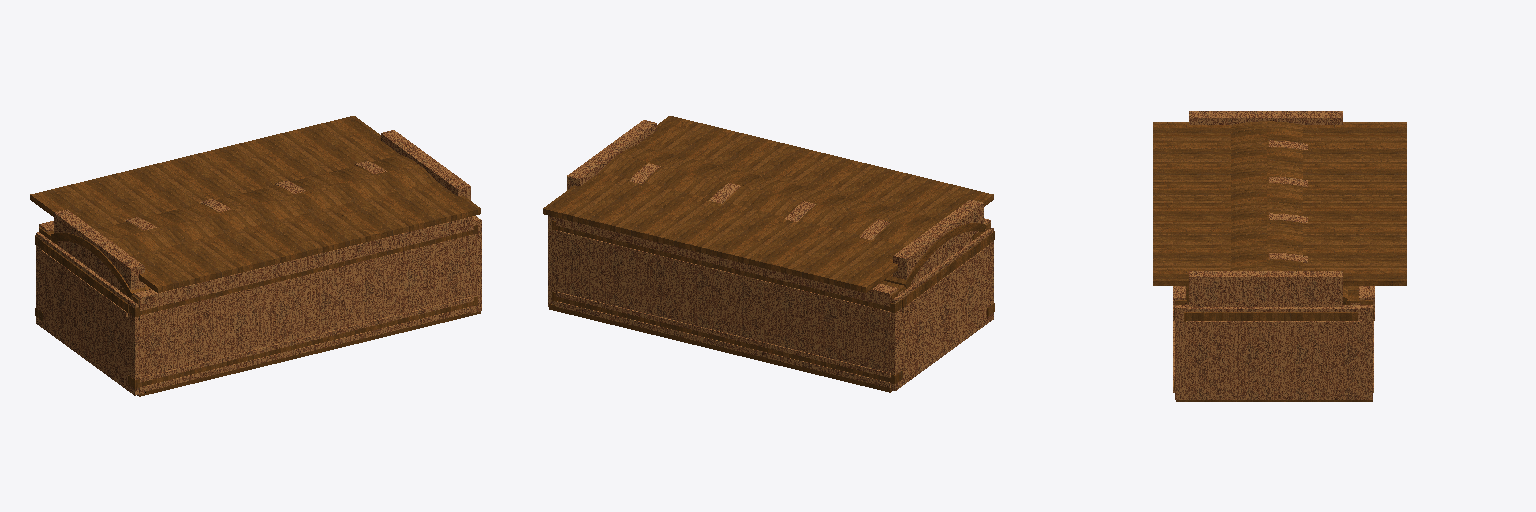
The picture shows the model from 3 angles: view 1: azimuth 30°, elevation 25°; view 2: azimuth 150°, elevation 25°; view 3: azimuth 270°, elevation 25°; orthographic projection.
Visible parts, largest first — view 1: Roof1, Wall5, Wall3, Roofdetail1, Wallstrip6, Roofdetail2, Ceilingdetail3, Wallstrip4, Wallstrip5, Wallstrip8, Wooddetail2, Wooddetail1 (+3 smaller); view 2: Roof1, Wall7, Wall3, Roofdetail2, Roofdetail1, Wallstrip2, Ceilingdetail3, Wallstrip3, Wallstrip9, Wallstrip10, Wooddetail5, Wooddetail3 (+4 smaller); view 3: Roof1, Wall1, Ceilingdetail2, Roofdetail1, Roofdetail2, Ceilingdetail3, Wooddetail6, Wallstrip1.
Boxes of the visible parts, <box> form: Roof1: <box>30,116,480,292</box>; Wall5: <box>140,216,481,376</box>; Wall3: <box>36,232,144,395</box>; Roofdetail1: <box>91,164,435,297</box>; Wallstrip6: <box>133,216,473,310</box>; Roofdetail2: <box>51,155,417,250</box>; Ceilingdetail3: <box>54,209,144,290</box>; Wallstrip4: <box>139,306,473,392</box>; Wallstrip5: <box>139,234,473,320</box>; Wallstrip8: <box>139,296,473,382</box>; Wooddetail2: <box>128,296,477,388</box>; Wooddetail1: <box>129,225,477,316</box>; Roof1: <box>543,116,993,292</box>; Wall7: <box>551,216,884,371</box>; Wall3: <box>885,228,993,390</box>; Roofdetail2: <box>600,155,945,288</box>; Roofdetail1: <box>619,145,985,241</box>; Wallstrip2: <box>556,218,897,306</box>; Ceilingdetail3: <box>893,200,983,284</box>; Wallstrip3: <box>556,230,890,316</box>; Wallstrip9: <box>556,301,890,387</box>; Wallstrip10: <box>556,292,890,377</box>; Wooddetail5: <box>552,292,902,383</box>; Wooddetail3: <box>552,220,901,312</box>; Roof1: <box>1153,122,1406,285</box>; Wall1: <box>1175,305,1372,399</box>; Ceilingdetail2: <box>1189,271,1342,306</box>; Roofdetail1: <box>1186,121,1266,303</box>; Roofdetail2: <box>1267,121,1347,304</box>; Ceilingdetail3: <box>1189,111,1342,124</box>; Wooddetail6: <box>1184,312,1357,321</box>; Wallstrip1: <box>1186,320,1361,326</box>.
Bounding box in the file's own units: 65.82 × 22.02 × 41.25.
29 materials, 3 textured.